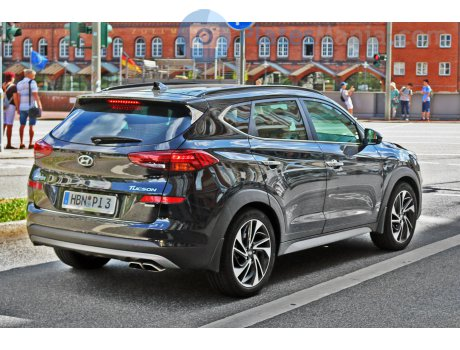License Plates: (64, 191, 108, 205)
